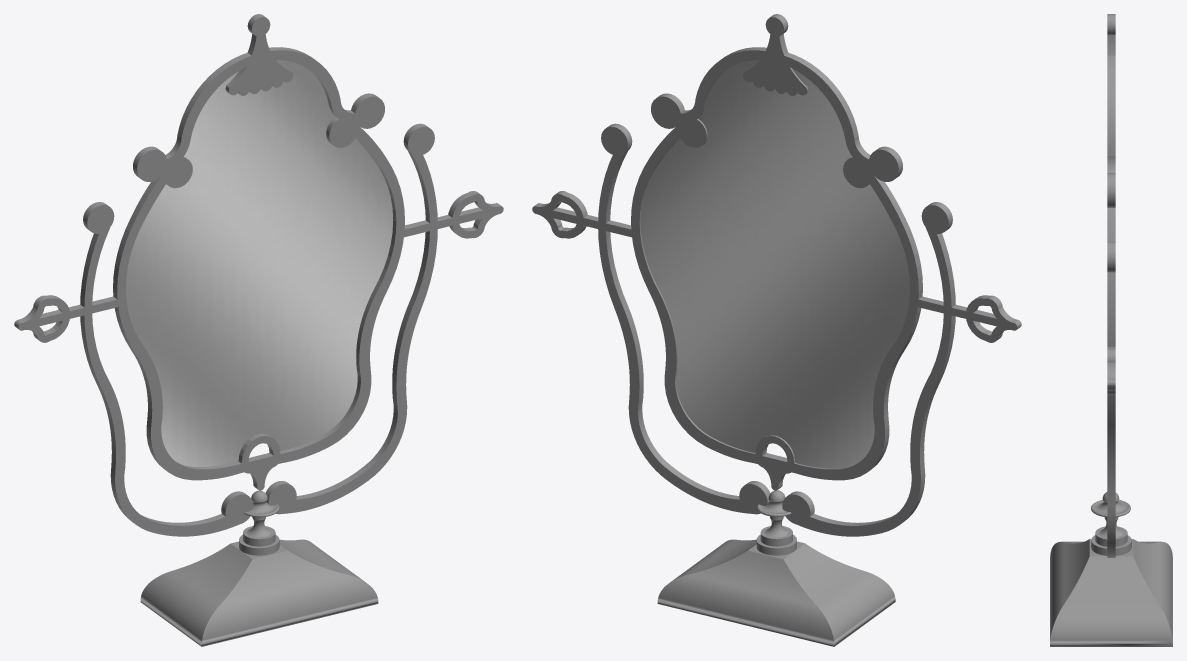
Rendered from VanityMirror.obj.
3 views of the same model, side by side, from view 1: azimuth 30°, elevation 25°; view 2: azimuth 150°, elevation 25°; view 3: azimuth 270°, elevation 25° (orthographic).
Parts seen in each view (by area): view 1: Mesh1 Group1 Group_31_1 Model, Mesh3 Group3 Group_31_1 Model, Mesh4 Group4 Group_31_1 Model; view 2: Mesh1 Group1 Group_31_1 Model, Mesh3 Group3 Group_31_1 Model, Mesh4 Group4 Group_31_1 Model; view 3: Mesh3 Group3 Group_31_1 Model, Mesh1 Group1 Group_31_1 Model, Mesh4 Group4 Group_31_1 Model, Mesh2 Group2 Group_31_1 Model.
Boxes of the visible parts, x1,y1,x2,y2 form: Mesh1 Group1 Group_31_1 Model: [14, 14, 503, 536]; Mesh3 Group3 Group_31_1 Model: [140, 539, 378, 646]; Mesh4 Group4 Group_31_1 Model: [239, 516, 279, 555]; Mesh1 Group1 Group_31_1 Model: [532, 14, 1021, 536]; Mesh3 Group3 Group_31_1 Model: [657, 539, 895, 646]; Mesh4 Group4 Group_31_1 Model: [756, 516, 796, 555]; Mesh3 Group3 Group_31_1 Model: [1050, 539, 1172, 646]; Mesh1 Group1 Group_31_1 Model: [1107, 14, 1115, 557]; Mesh4 Group4 Group_31_1 Model: [1091, 517, 1131, 555]; Mesh2 Group2 Group_31_1 Model: [1091, 492, 1130, 517].
Size of the model in its own units: 16.52 by 19.11 by 3.61.
Materials: 2 (1 with a texture image).
